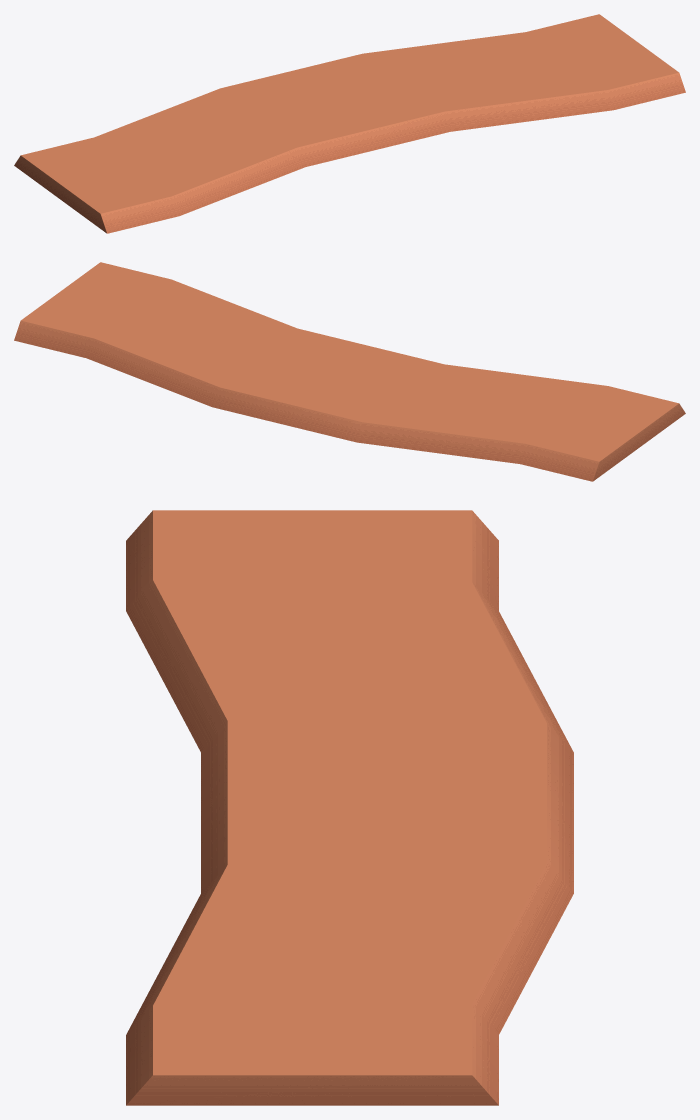
Rendered from hexagon-kit--path-straight.glb.
3 views of the same model, one above another, from view 1: azimuth 30°, elevation 25°; view 2: azimuth 150°, elevation 25°; view 3: azimuth 270°, elevation 25° (orthographic). The views are drawn at different scales.
Visible parts, largest first — view 1: path-straight; view 2: path-straight; view 3: path-straight.
Part boxes in pixels (left/top/right/bottom): path-straight: left=14, top=14, right=685, bottom=233; path-straight: left=14, top=262, right=685, bottom=481; path-straight: left=126, top=510, right=573, bottom=1105.
Bounding box in the file's own units: 1 × 0.025 × 0.335.
1 material, 1 textured.
